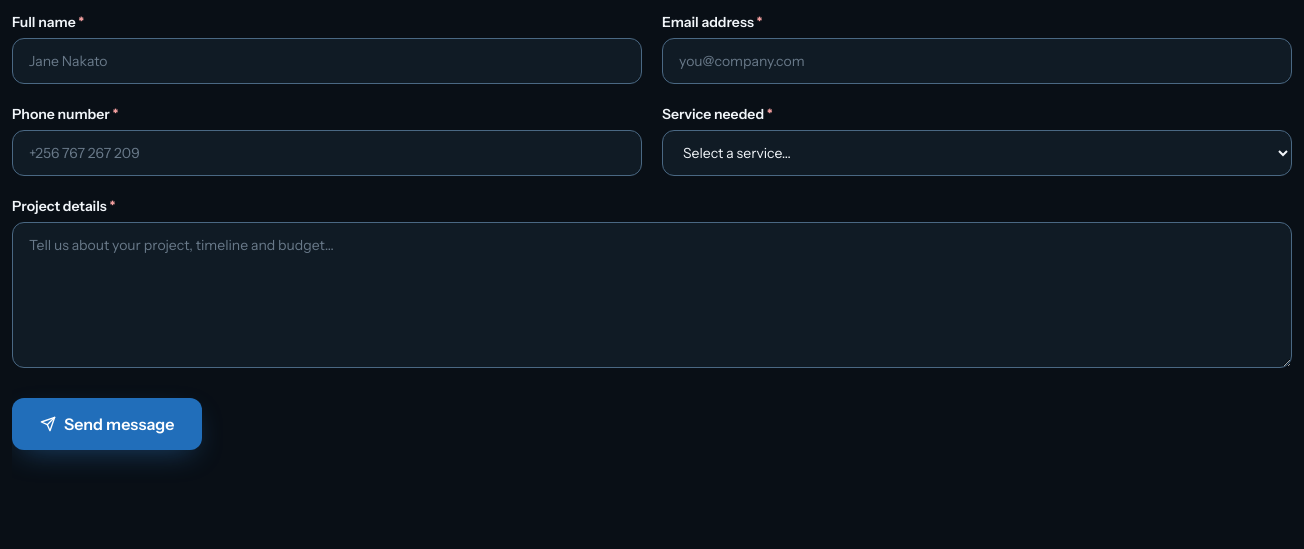
Test: ContactForm validation › rejects a phone number that is too short
This screenshot has width=1304, height=549.
In the field labelled "Phone number *": (327, 153) left=12, top=130, right=642, bottom=176, type "0700"
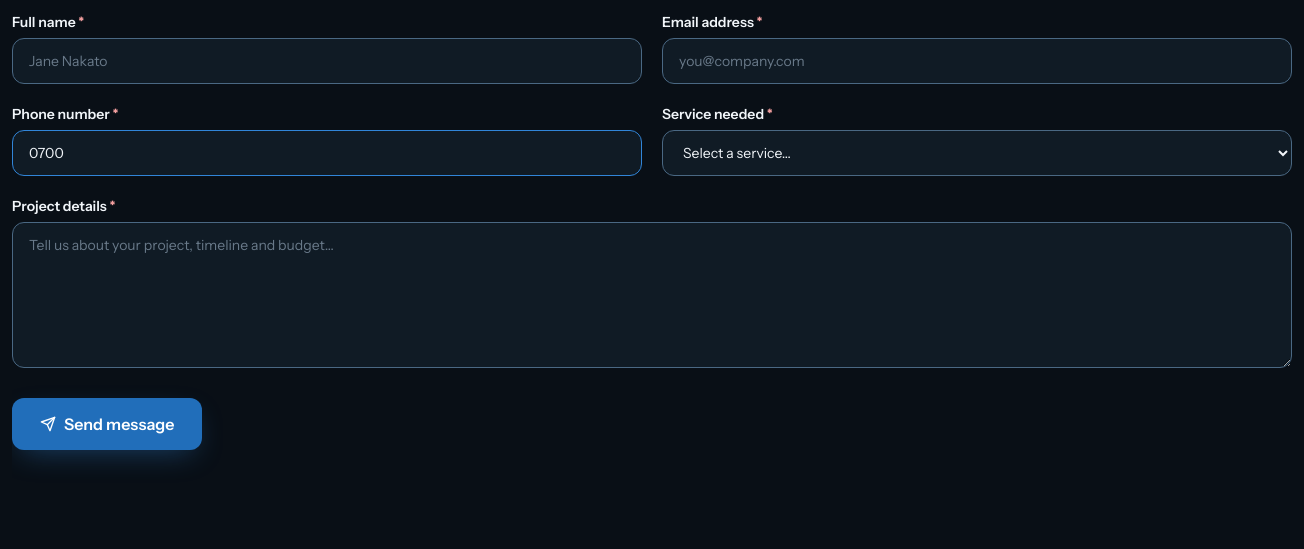
Click the button "Send message": (107, 424) left=12, top=398, right=202, bottom=450
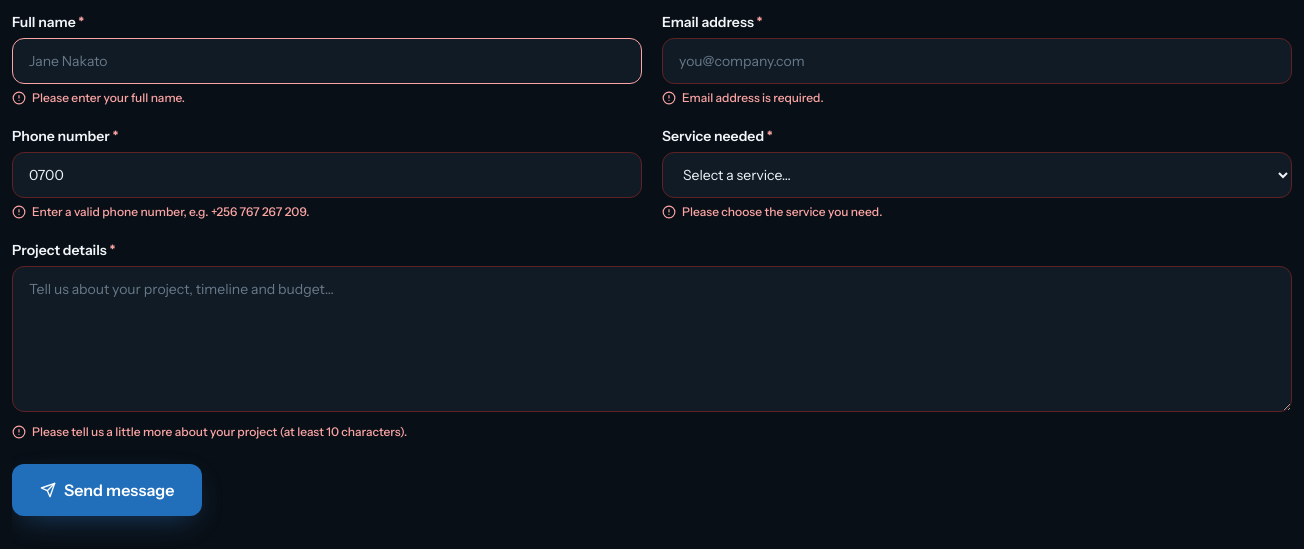
Now the text "Enter a valid phone number, e.g. +256 767 267 209." is shown, box left=12, top=204, right=309, bottom=219
